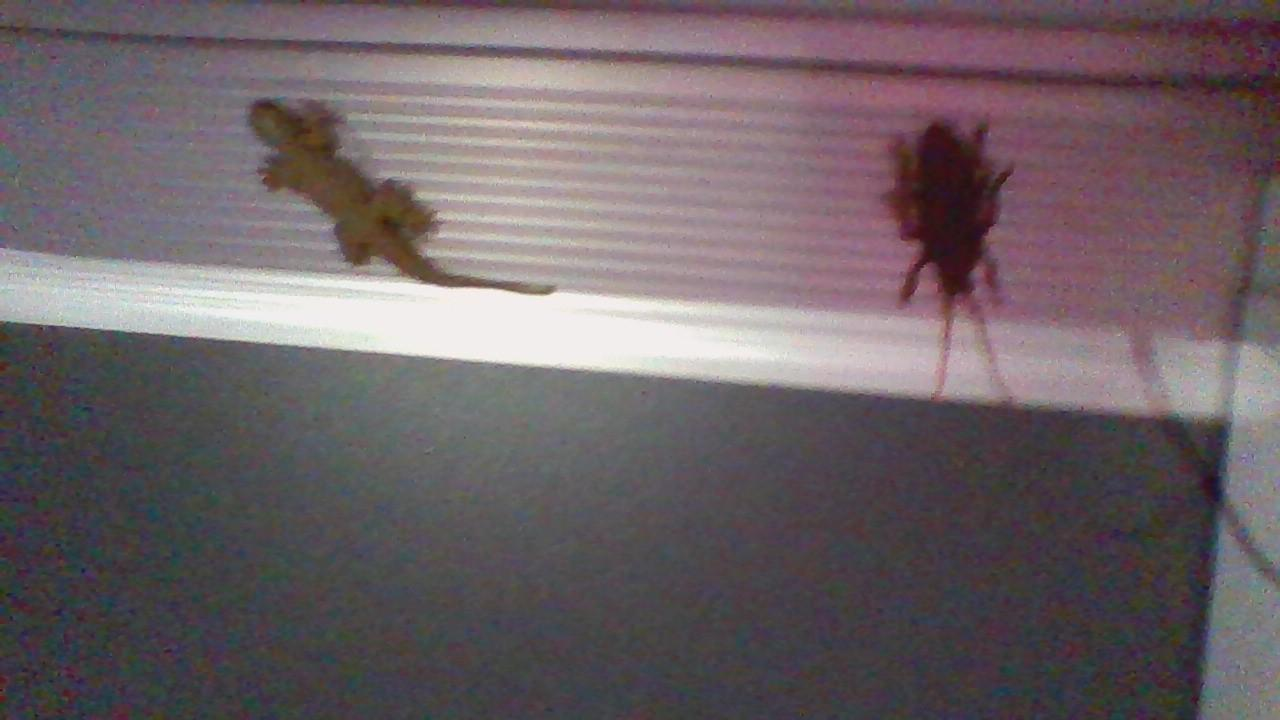cockroach: (862, 103, 1042, 439)
lizard: (217, 83, 565, 322)
